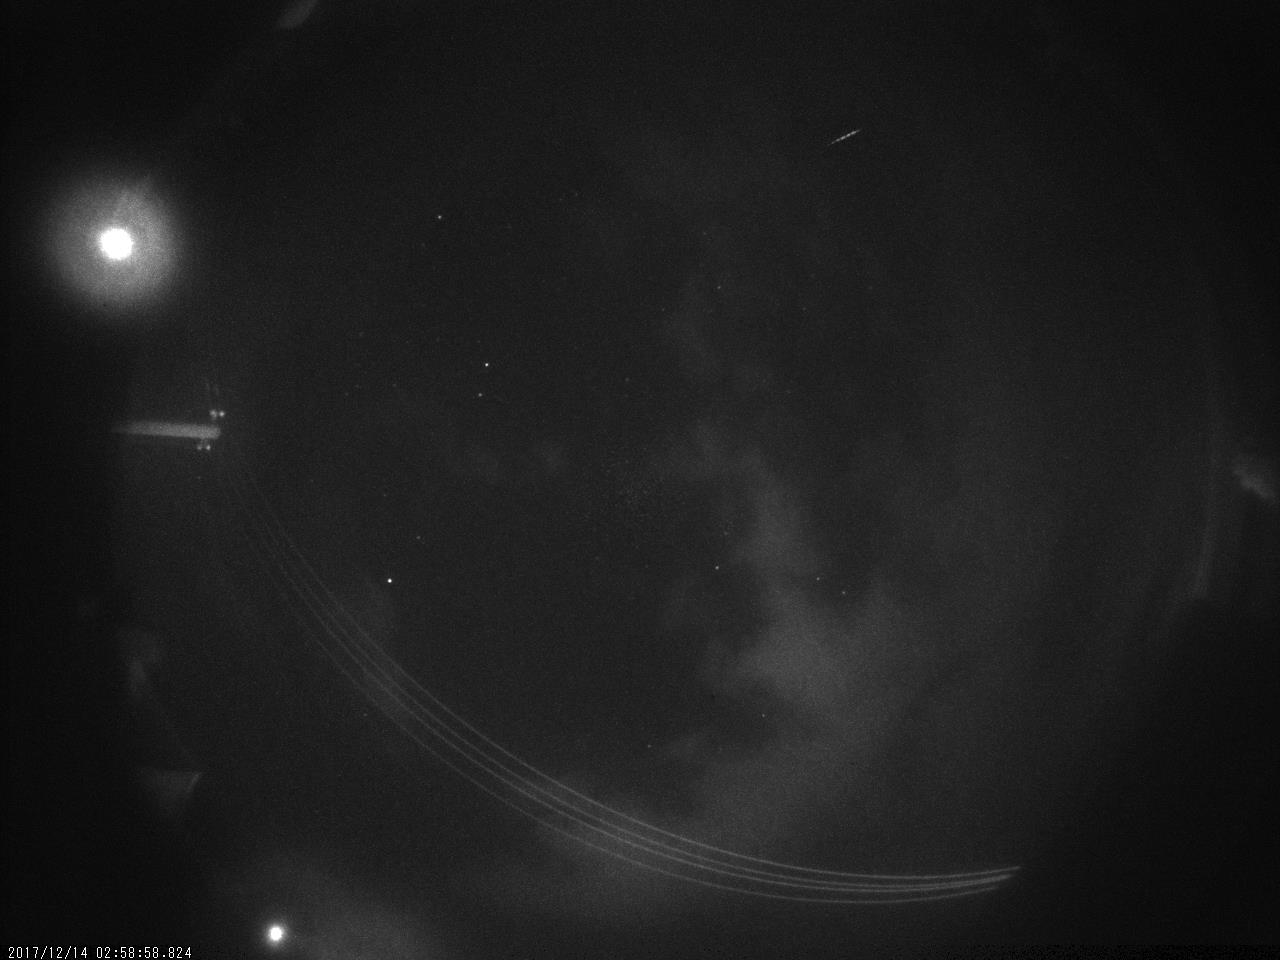meteor: (805, 119, 887, 151)
